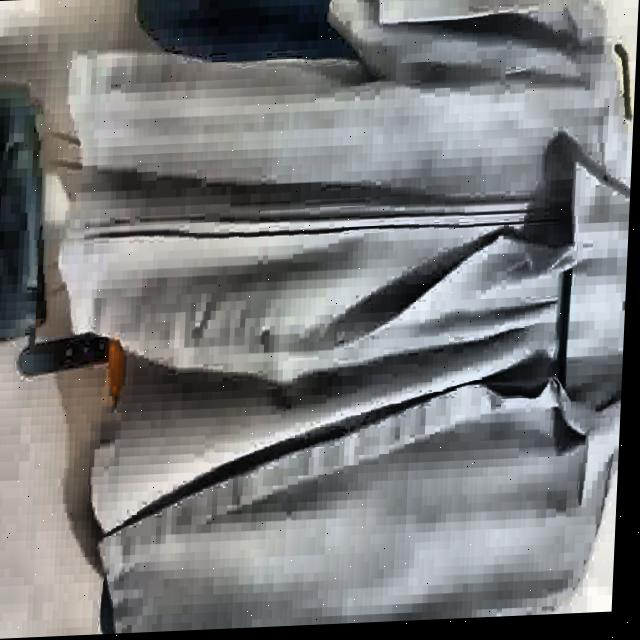clothes: (26, 0, 640, 632)
